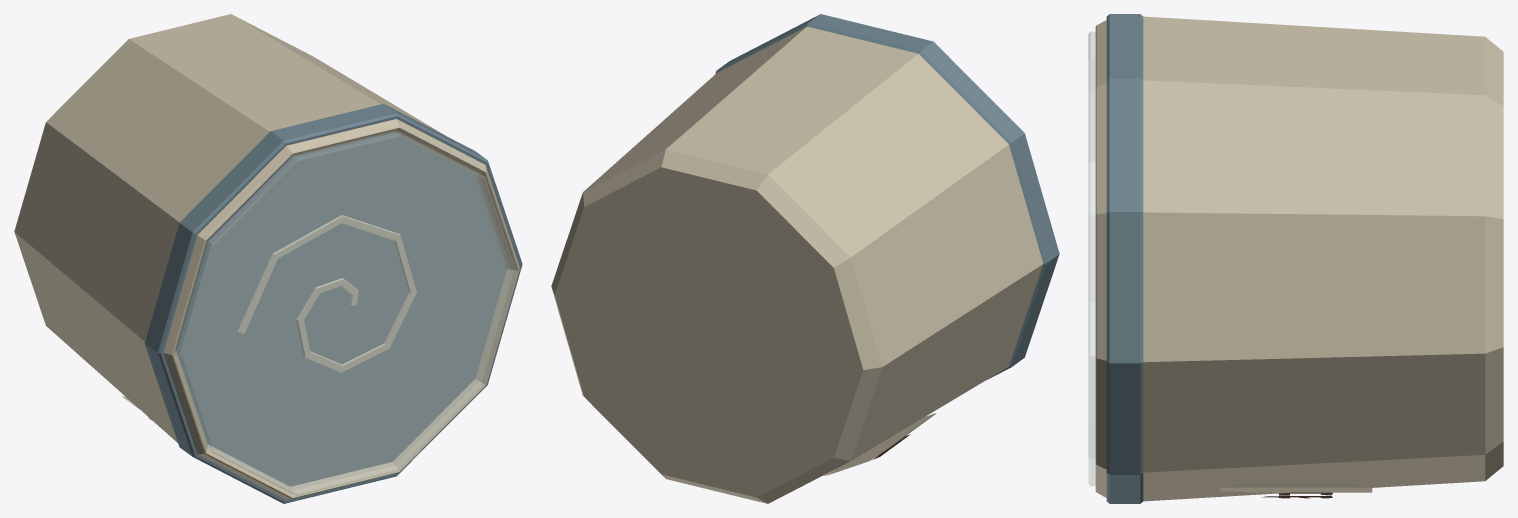
Rendered from ricotta.glb.
3 renders of one model, left to right at view 1: azimuth 30°, elevation 25°; view 2: azimuth 150°, elevation 25°; view 3: azimuth 270°, elevation 25°, orthographic. The views are drawn at different scales.
Visible parts, largest first — view 1: ricotta; view 2: ricotta; view 3: ricotta.
Part boxes in pixels (box(x1,y1,x2,y2)): ricotta: box(14, 14, 522, 503); ricotta: box(551, 14, 1059, 503); ricotta: box(1088, 14, 1503, 503).
Bounding box in the file's own units: 0.097 × 0.0931 × 0.0816.
